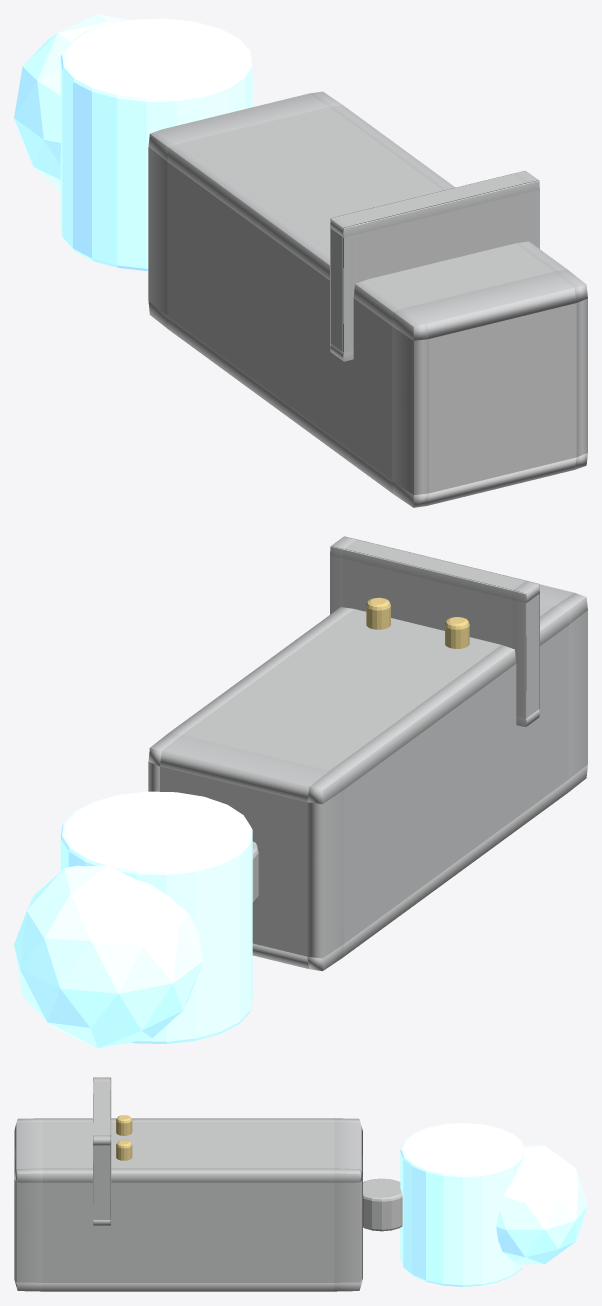
File: water_cooler.glb
3 renders of one model, top to bottom at view 1: azimuth 30°, elevation 25°; view 2: azimuth 150°, elevation 25°; view 3: azimuth 270°, elevation 25°, orthographic. The views are drawn at different scales.
Visible parts, largest first — view 1: base, bottle_body, tray, bottle_cap; view 2: base, bottle_cap, bottle_body, tray, tap_hot, tap_cold; view 3: base, bottle_body, bottle_cap, tray, bottle_neck, tap_hot, tap_cold.
Boxes of the visible parts, bbox=[...] form: base: bbox=[148, 91, 587, 507]; bottle_body: bbox=[60, 18, 252, 270]; tray: bbox=[330, 171, 539, 361]; bottle_cap: bbox=[14, 14, 129, 190]; base: bbox=[148, 584, 587, 970]; bottle_cap: bbox=[14, 865, 202, 1048]; bottle_body: bbox=[60, 791, 252, 1043]; tray: bbox=[330, 536, 539, 726]; tap_hot: bbox=[366, 597, 390, 629]; tap_cold: bbox=[445, 617, 469, 648]; base: bbox=[14, 1118, 362, 1291]; bottle_body: bbox=[400, 1123, 524, 1286]; bottle_cap: bbox=[496, 1145, 587, 1264]; tray: bbox=[93, 1077, 111, 1225]; bottle_neck: bbox=[363, 1178, 402, 1231]; tap_hot: bbox=[116, 1140, 132, 1160]; tap_cold: bbox=[116, 1115, 132, 1135].
Size of the model in its own units: 0.3998 by 0.4696 by 1.56.
